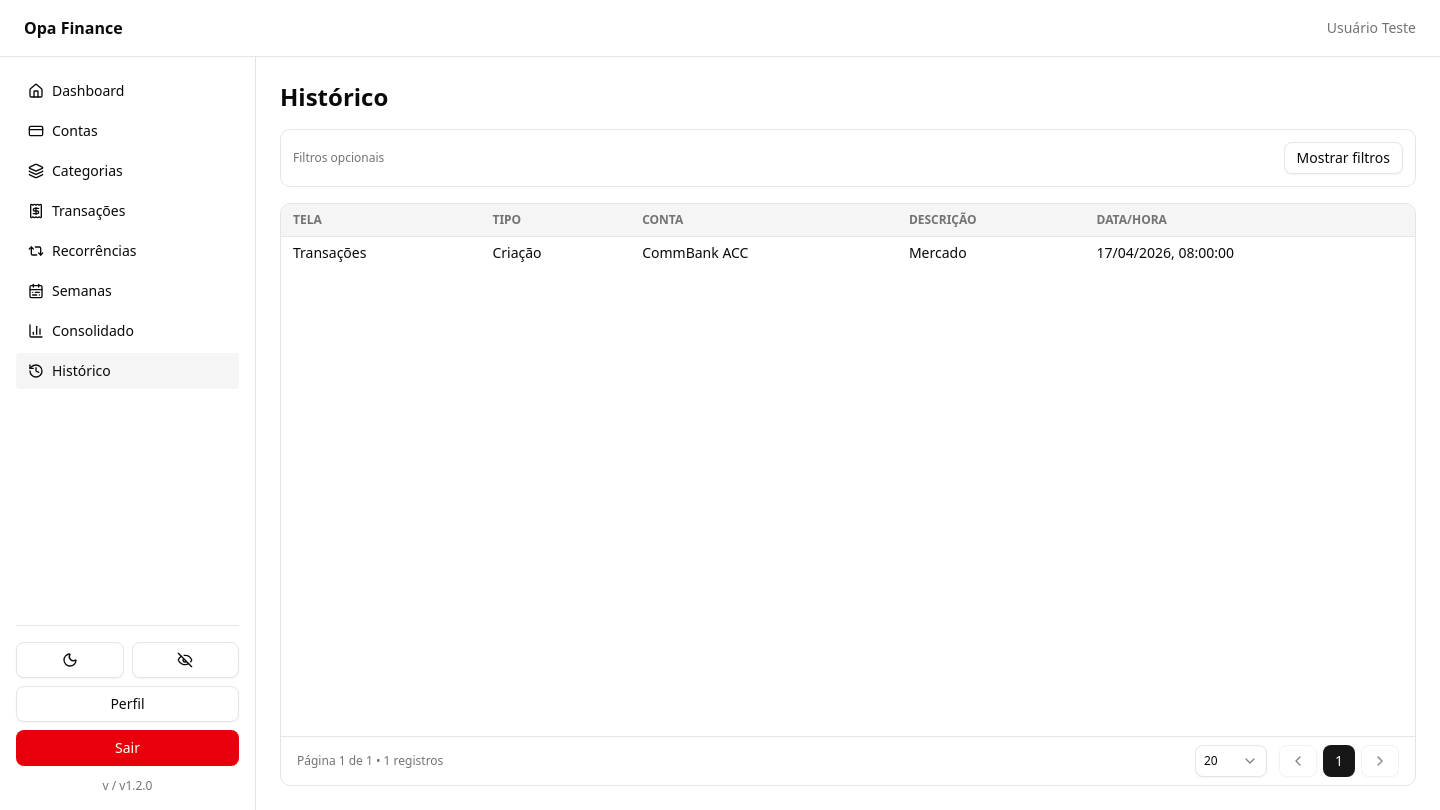
Test: audit feature › deve fechar modal de detalhes com Escape e com clique no backdrop
Expected: the heading "Histórico" is shown, x1=280 y1=80 x2=388 y2=113
Click the text "Mercado" at {"x": 938, "y": 252}, box x1=897 y1=236 x2=1085 y2=269
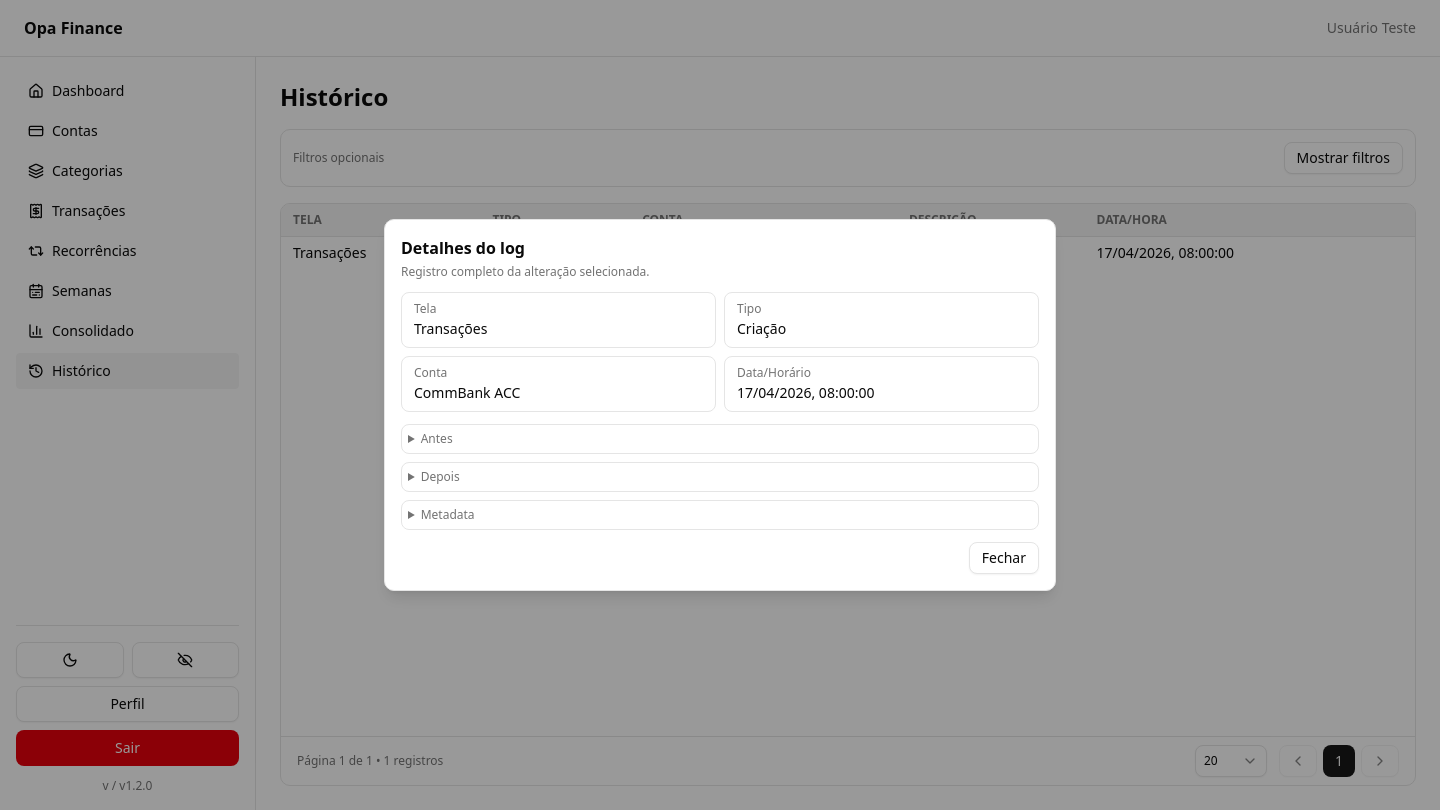
Expected: the heading "Detalhes do log" is shown, x1=401 y1=237 x2=525 y2=259
Press Escape
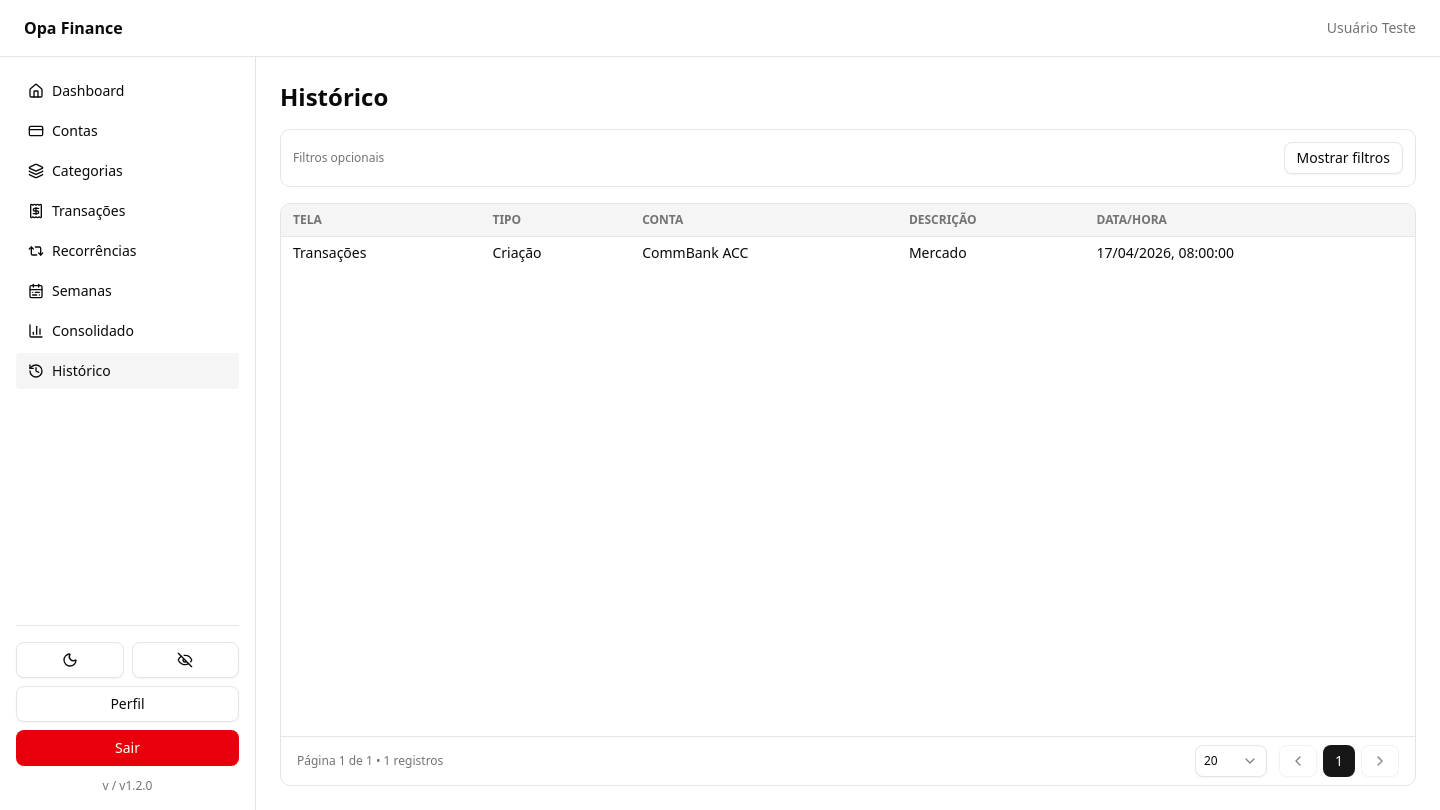
Expected: the heading "Detalhes do log" is gone
Click the text "Mercado" at {"x": 938, "y": 252}, box x1=897 y1=236 x2=1085 y2=269
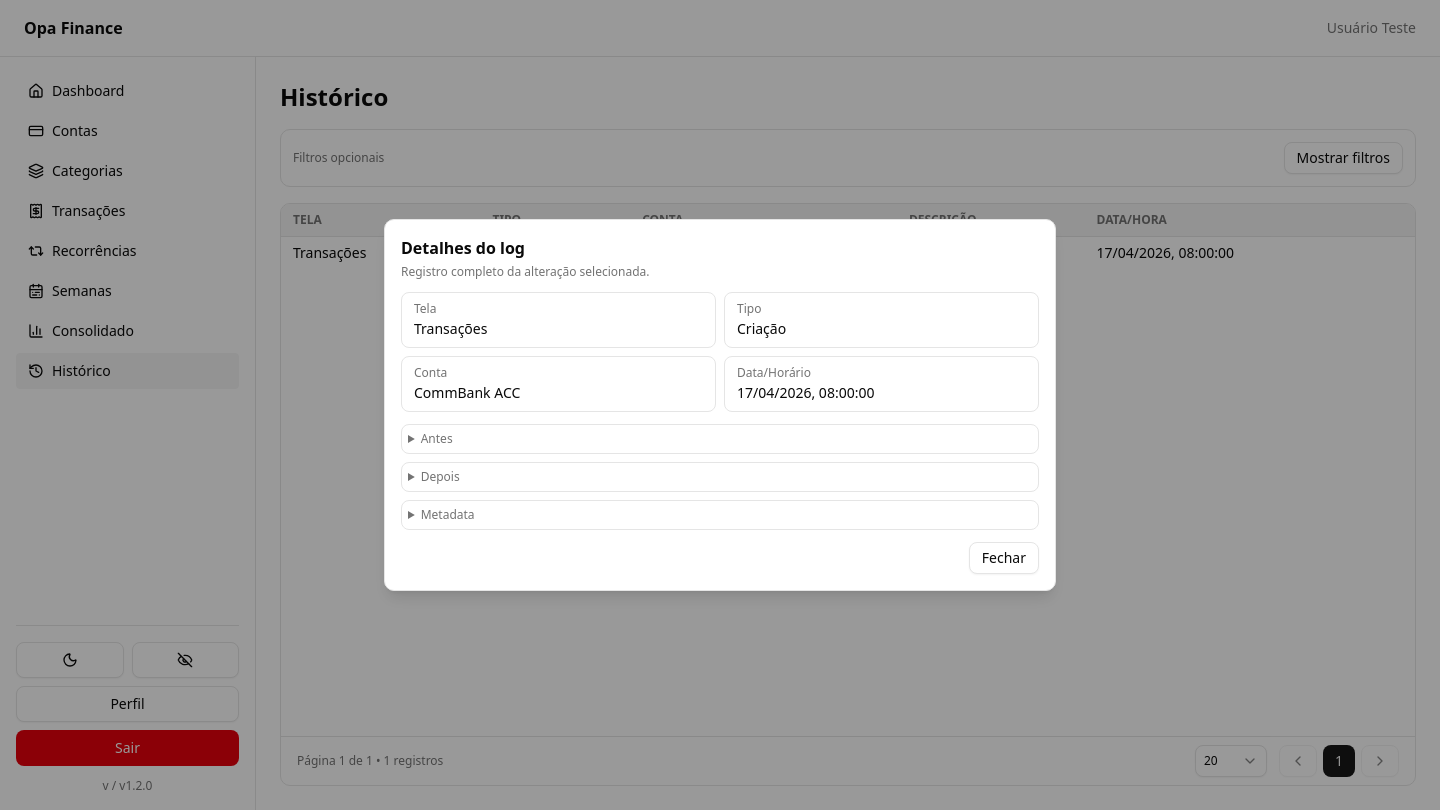
Expected: the heading "Detalhes do log" is shown, x1=401 y1=237 x2=525 y2=259
Click the element with test id "audit-detail-backdrop" at {"x": 86, "y": 405}, box x1=0 y1=0 x2=1439 y2=809
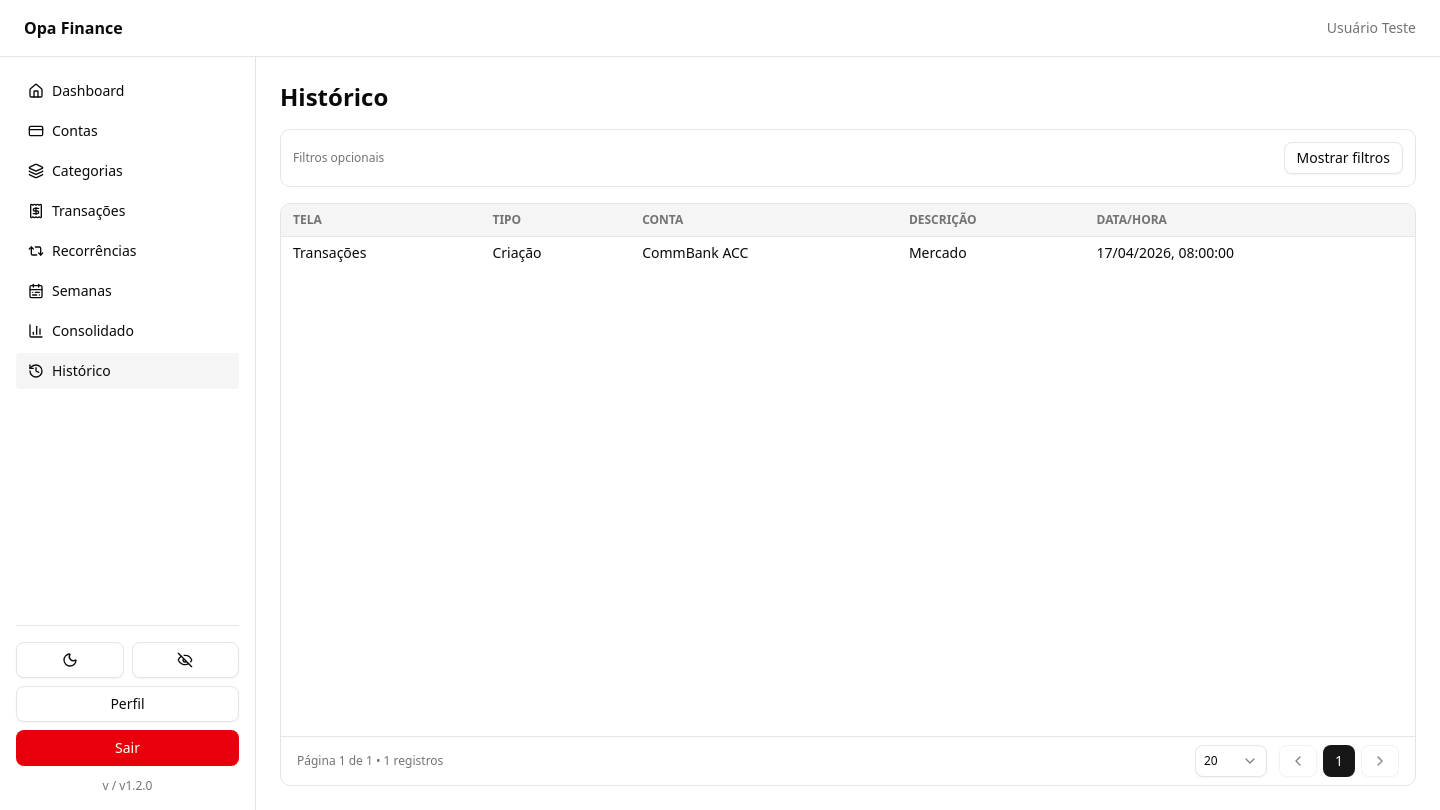
Expected: the heading "Detalhes do log" is gone
